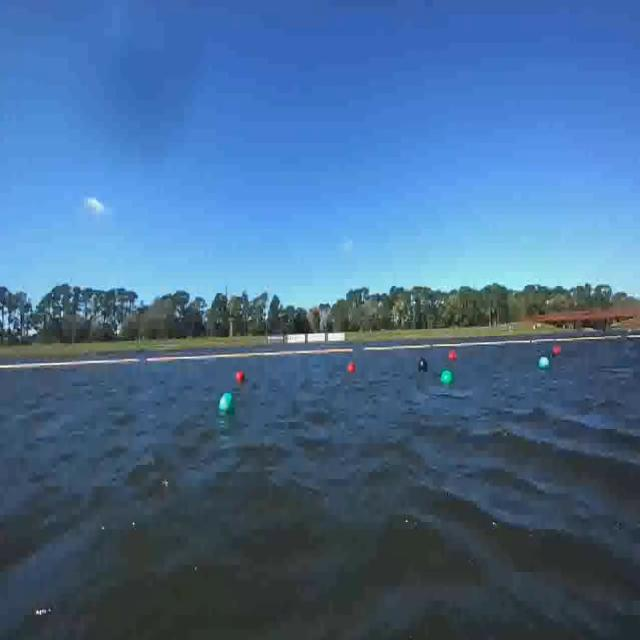black-buoy: (418, 358, 428, 370)
green-buoy: (220, 395, 234, 416), (442, 369, 455, 386), (537, 356, 550, 371)
red-buoy: (346, 358, 356, 372), (446, 352, 456, 362), (237, 372, 246, 383), (553, 347, 562, 356)
